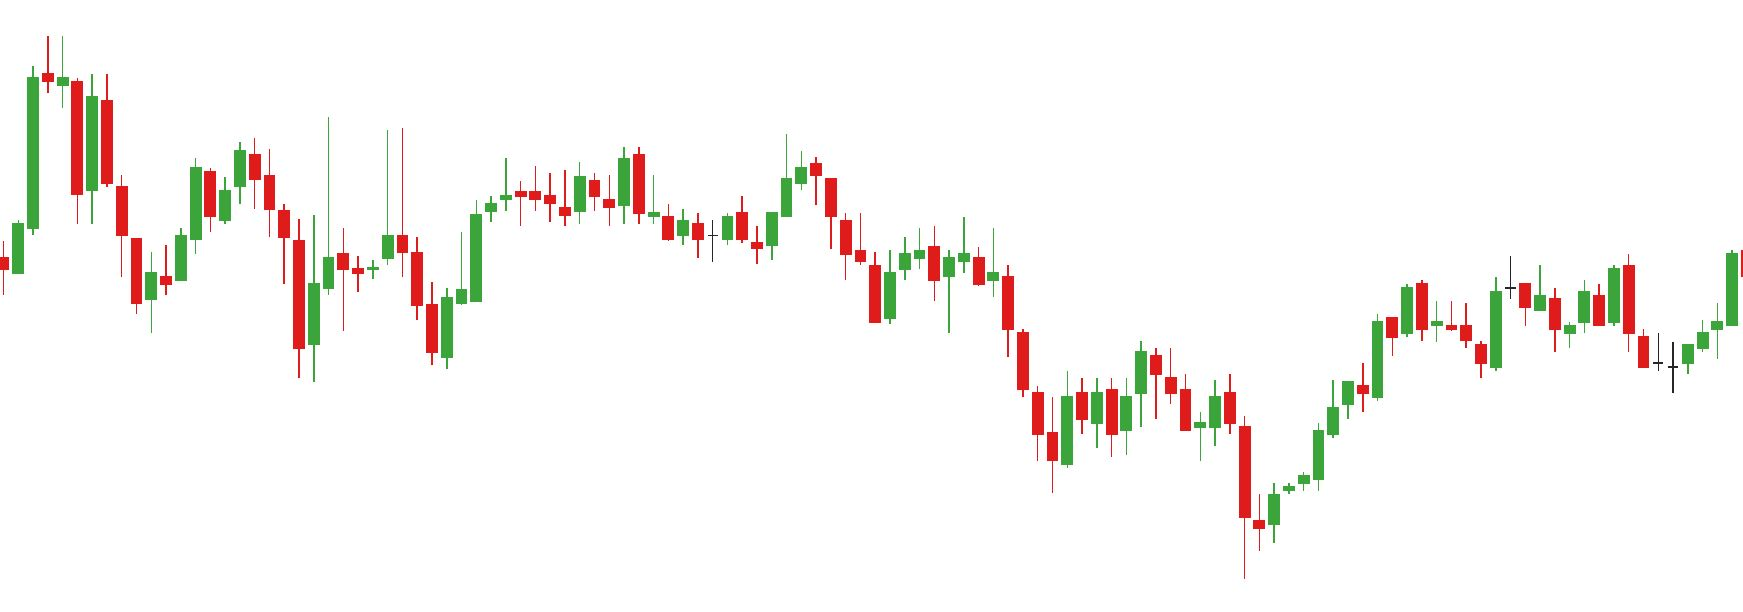buy: (1043, 413, 1279, 580), (145, 215, 323, 387)
sell: (619, 132, 823, 232)
